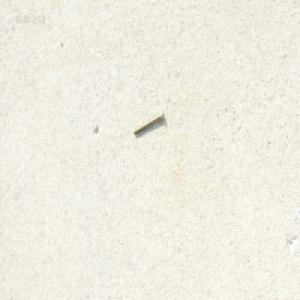Bolt: (133, 110, 164, 135)
